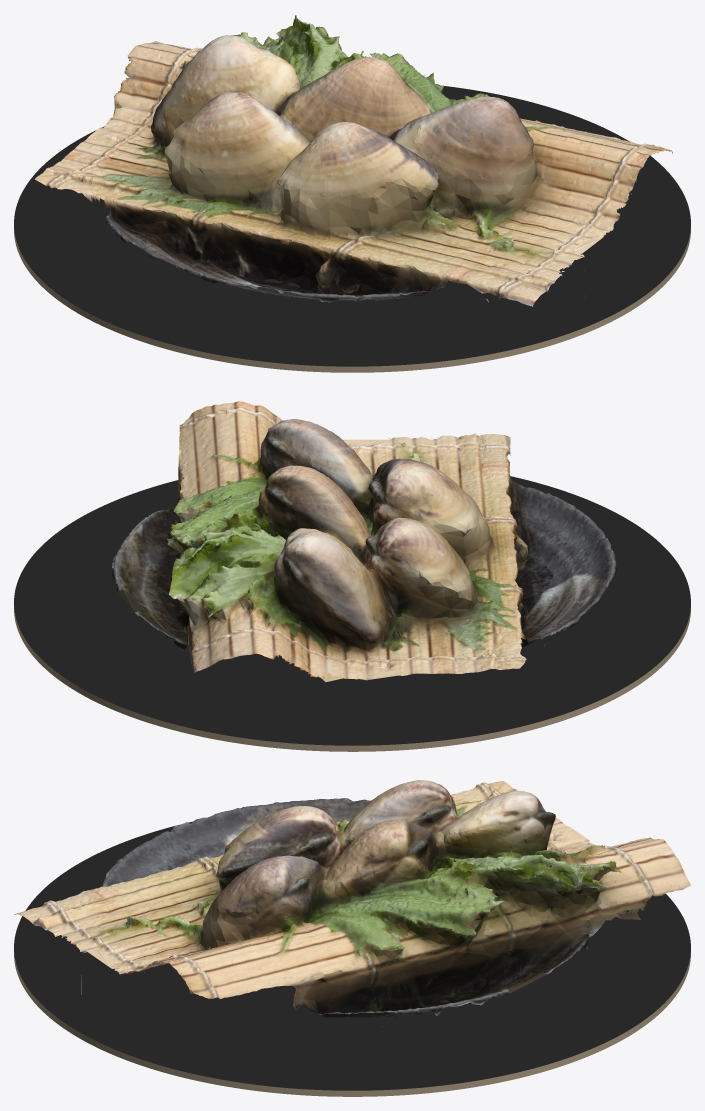
3 renders of one model, top to bottom at view 1: azimuth 30°, elevation 25°; view 2: azimuth 150°, elevation 25°; view 3: azimuth 270°, elevation 25°, orthographic.
Visible parts, largest first — view 1: No10_Photo, No10_SupportTop, No10_SupportSide; view 2: No10_Photo, No10_SupportTop, No10_SupportSide; view 3: No10_Photo, No10_SupportTop, No10_SupportSide.
Part boxes in pixels (x1,y1,x2,y2): No10_Photo: [35, 15, 672, 334]; No10_SupportTop: [14, 86, 690, 366]; No10_SupportSide: [14, 228, 690, 372]; No10_Photo: [111, 401, 616, 681]; No10_SupportTop: [14, 476, 690, 745]; No10_SupportSide: [14, 607, 690, 751]; No10_Photo: [14, 780, 690, 1026]; No10_SupportTop: [14, 821, 690, 1090]; No10_SupportSide: [14, 952, 690, 1096].
Bounding box in the file's own units: 0.4 × 0.1134 × 0.4.
Materials: 9 (1 with a texture image).
